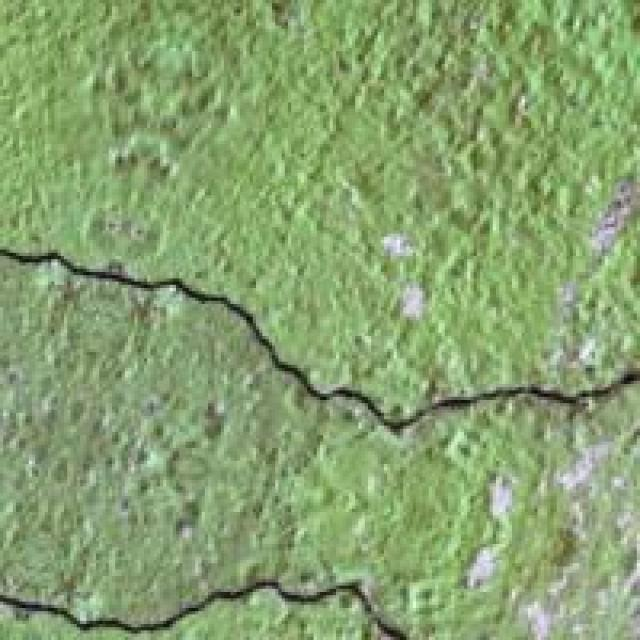SurfaceCrack: (0, 210, 620, 438), (0, 558, 450, 640)
